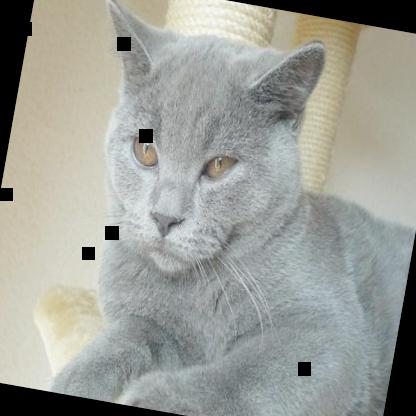cat: (35, 0, 415, 415)
